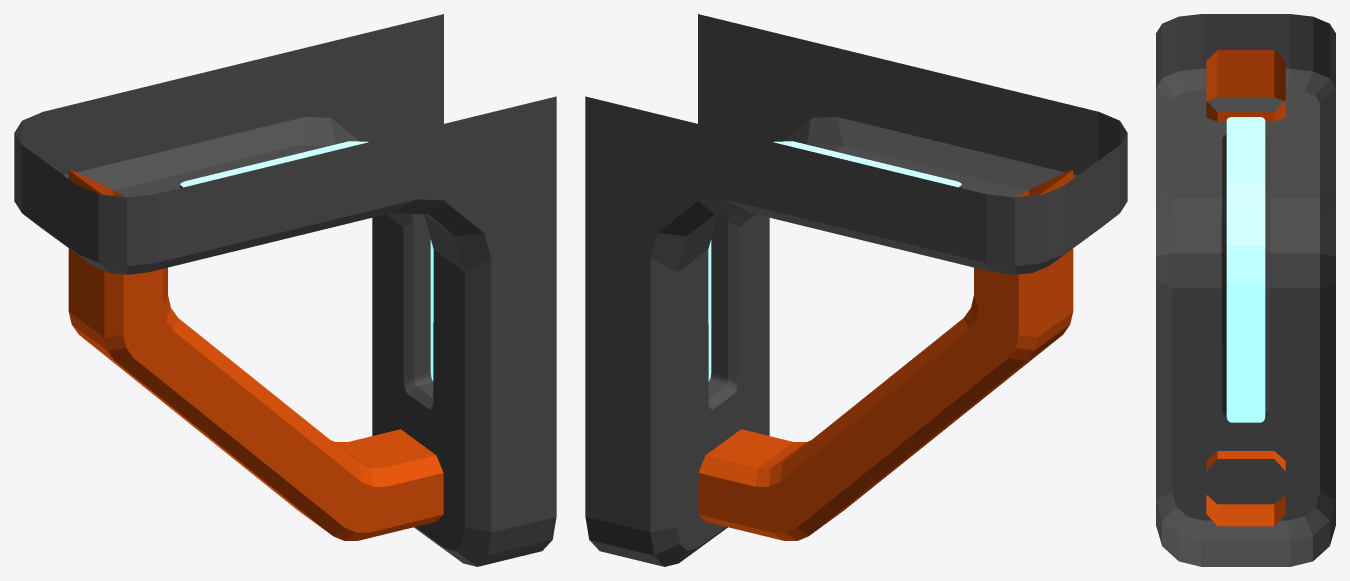
File: AT_SupportBeam_Small.fbx
3 renders of one model, left to right at view 1: azimuth 30°, elevation 25°; view 2: azimuth 150°, elevation 25°; view 3: azimuth 270°, elevation 25°, orthographic. The views are drawn at different scales.
Visible parts, largest first — view 1: AT_SupportBeam_Small; view 2: AT_SupportBeam_Small; view 3: AT_SupportBeam_Small.
Boxes of the visible parts, left/top/right/bottom form: AT_SupportBeam_Small: left=14, top=14, right=556, bottom=566; AT_SupportBeam_Small: left=585, top=14, right=1127, bottom=566; AT_SupportBeam_Small: left=1156, top=14, right=1335, bottom=566.
Size of the model in its own units: 305 by 306 by 132.
